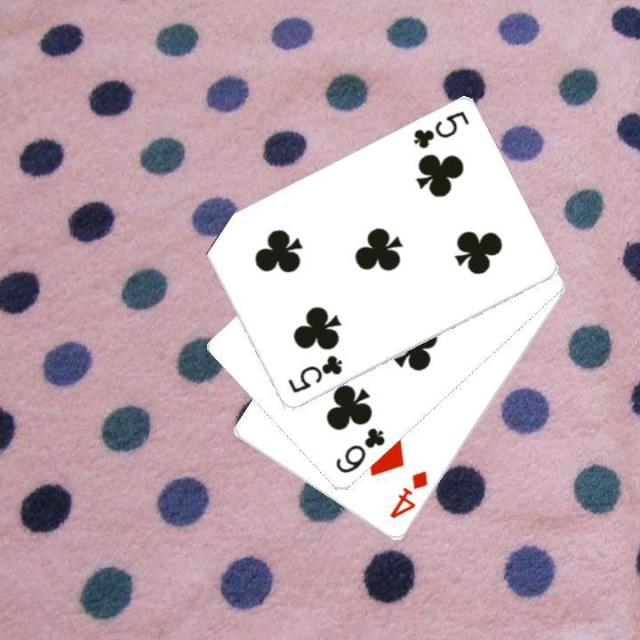4D: (386, 467, 430, 521)
5C: (284, 351, 344, 397), (409, 108, 471, 151)
6C: (332, 424, 388, 476)
